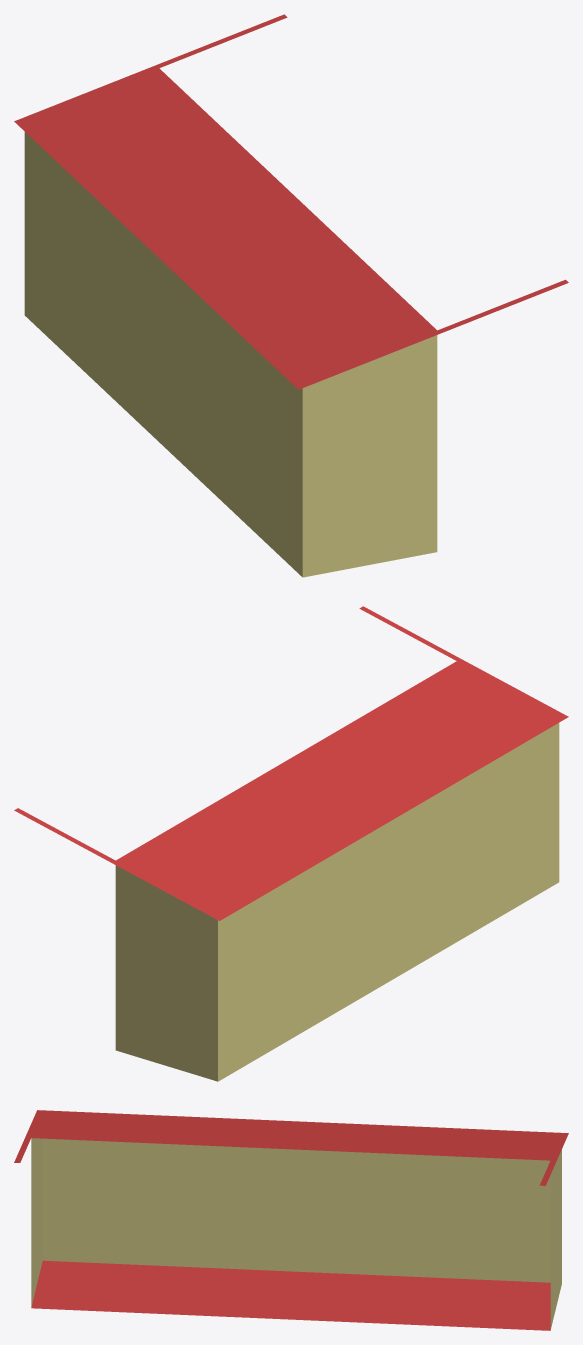
3 renders of one model, top to bottom at view 1: azimuth 30°, elevation 25°; view 2: azimuth 150°, elevation 25°; view 3: azimuth 270°, elevation 25°, orthographic. The views are drawn at different scales.
Bounding box in the file's own units: 11.25 × 22.23 × 8.42.
